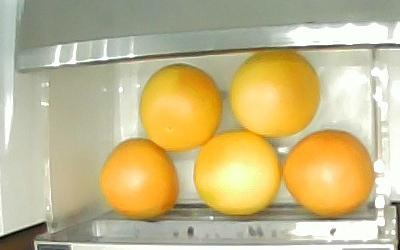grapefruit: (281, 128, 374, 217), (228, 50, 320, 137), (192, 129, 282, 215), (138, 62, 222, 151), (96, 136, 179, 217)
